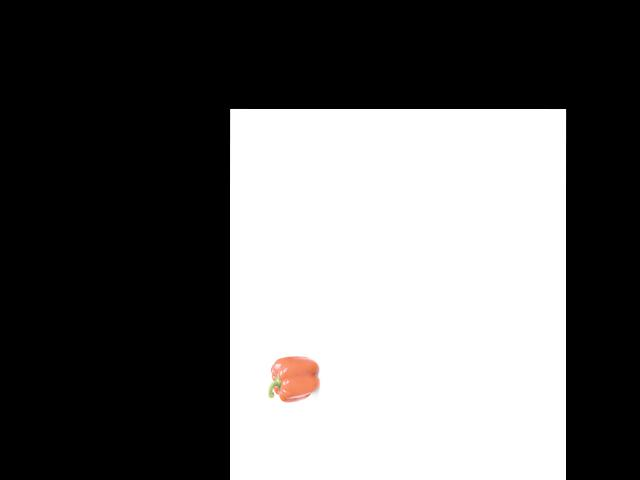bell_pepper: (267, 355, 320, 402)
